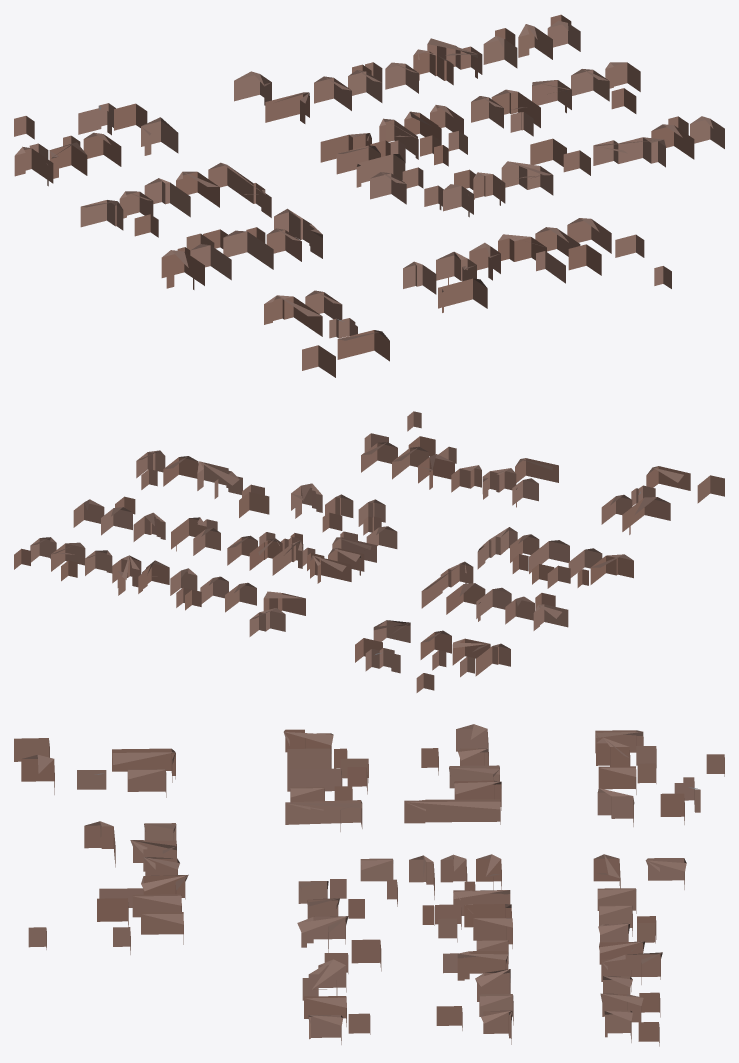
File: c_1645_17826_buildings_residential.glb
3 views of the same model, one above another, from view 1: azimuth 30°, elevation 25°; view 2: azimuth 150°, elevation 25°; view 3: azimuth 270°, elevation 25° (orthographic). The views are drawn at different scales.
Visible parts, largest first — view 1: geometry_0; view 2: geometry_0; view 3: geometry_0.
Part boxes in pixels (x1=…): geometry_0: x1=14, y1=14, x2=724, y2=377; geometry_0: x1=14, y1=411, x2=724, y2=692; geometry_0: x1=14, y1=724, x2=724, y2=1046.
Bounding box in the file's own units: 261 × 10.94 × 263.
